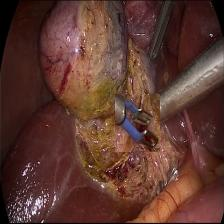Bipolar: (115, 94, 160, 152)
Grasper: (147, 0, 178, 67)
